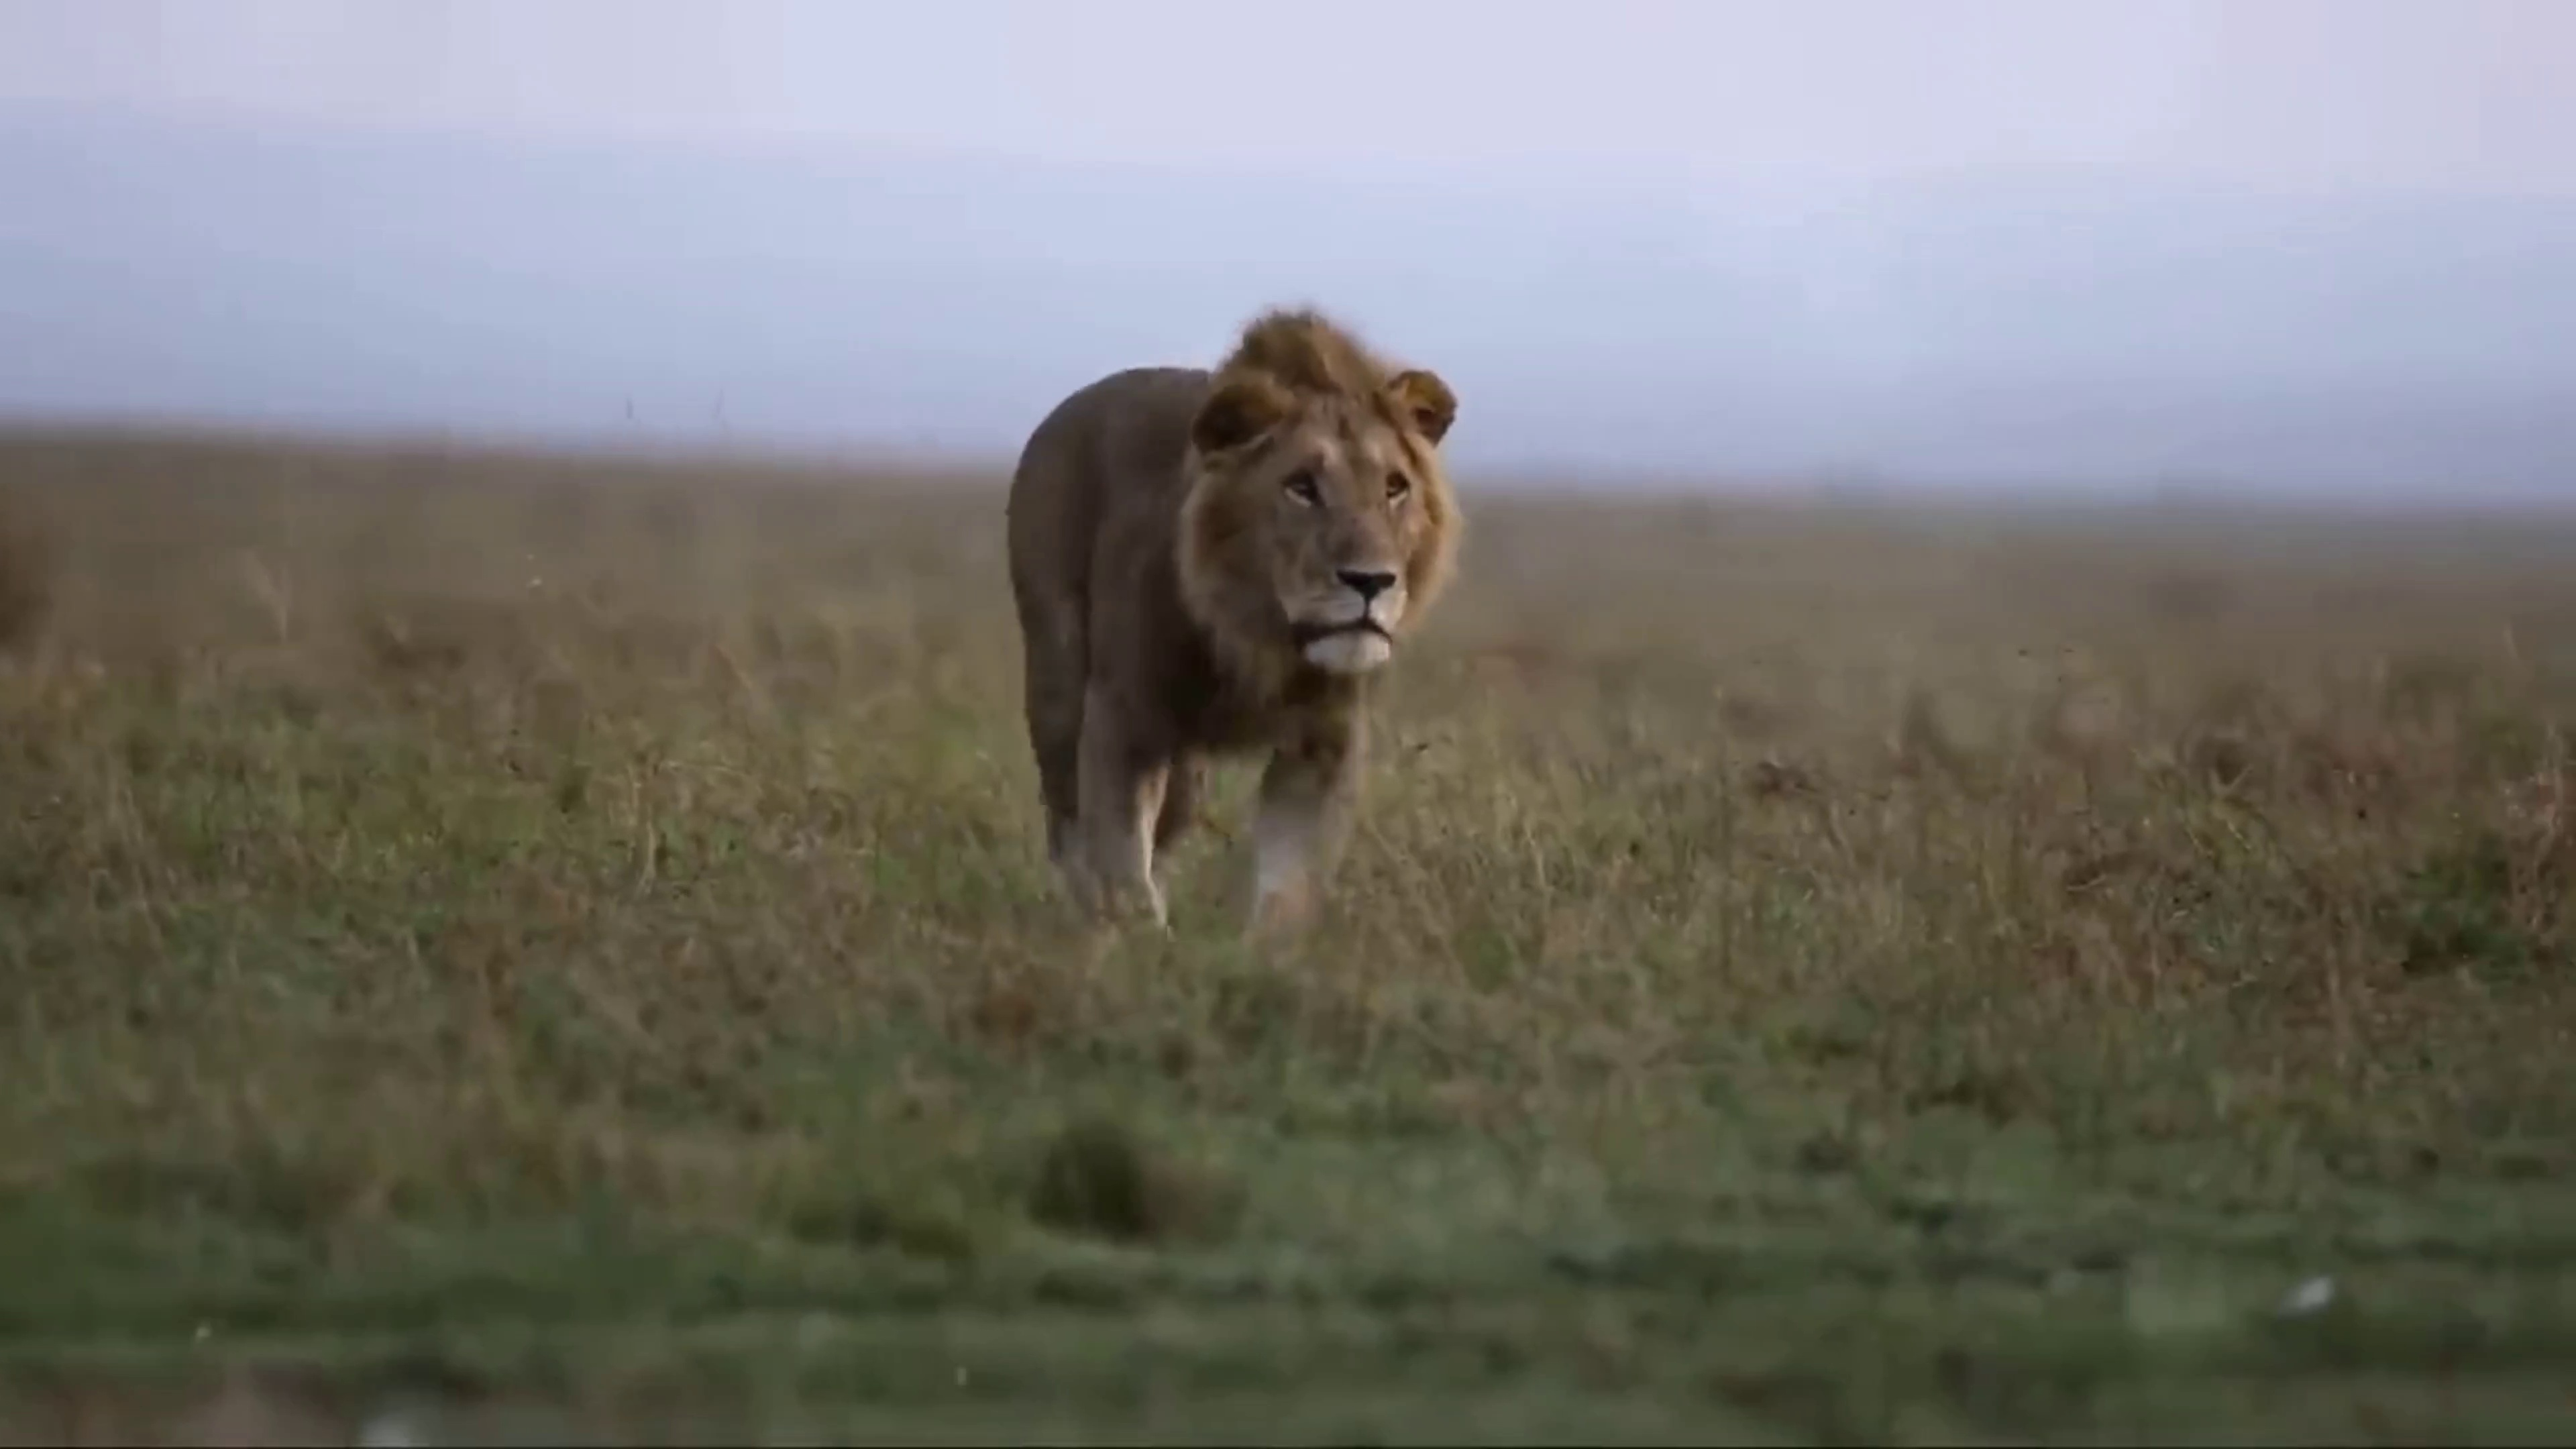Lion: (1005, 303, 1465, 943)
